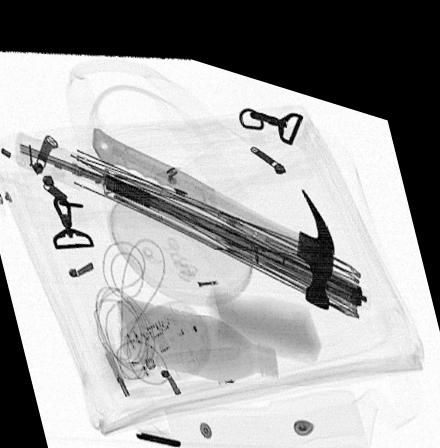Hammer: (91, 118, 337, 291)
